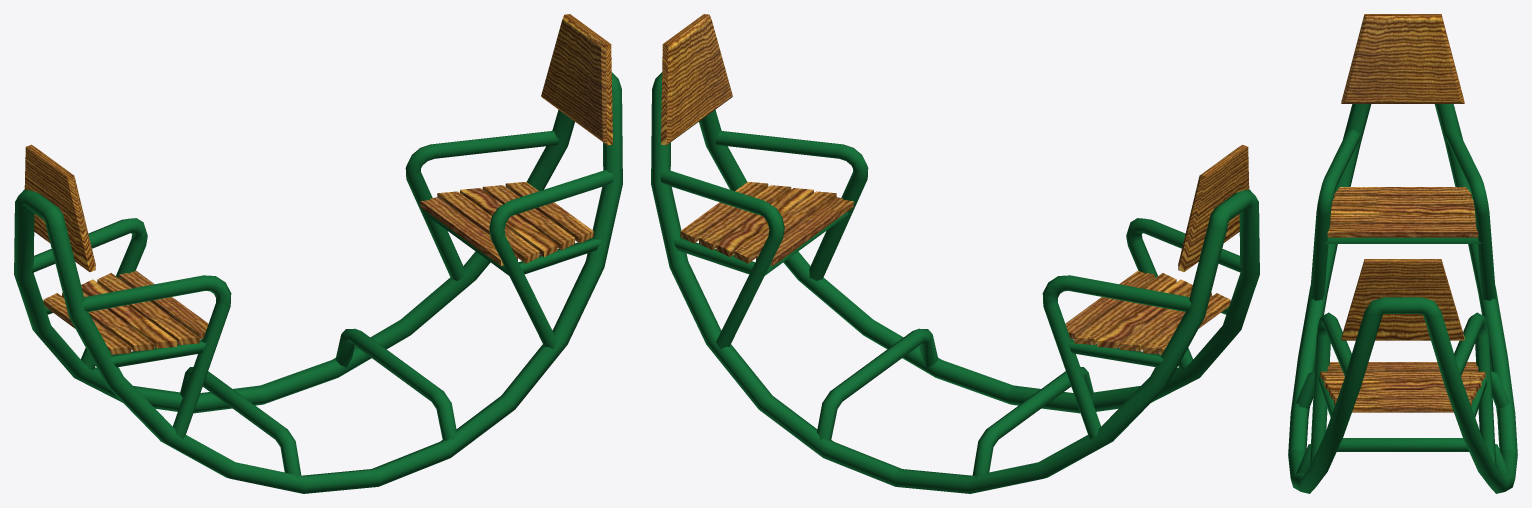
File: seesaw.glb
3 renders of one model, left to right at view 1: azimuth 30°, elevation 25°; view 2: azimuth 150°, elevation 25°; view 3: azimuth 270°, elevation 25°, orthographic. The views are drawn at different scales.
Visible parts, largest first — view 1: seesaw; view 2: seesaw; view 3: seesaw.
Boxes of the visible parts, left/top/right/bottom form: seesaw: left=14, top=14, right=622, bottom=493; seesaw: left=651, top=14, right=1259, bottom=493; seesaw: left=1288, top=14, right=1517, bottom=493.
Bounding box in the file's own units: 2 × 1.17 × 0.7452.
Materials: 1 (1 with a texture image).
